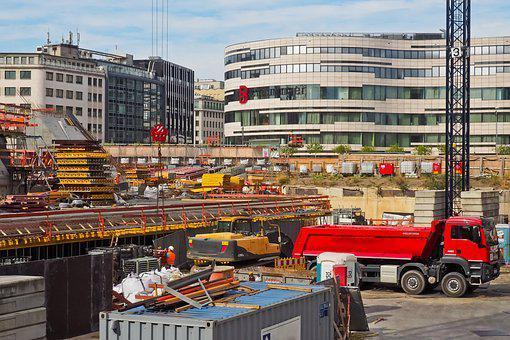dump truck: (296, 215, 503, 301)
